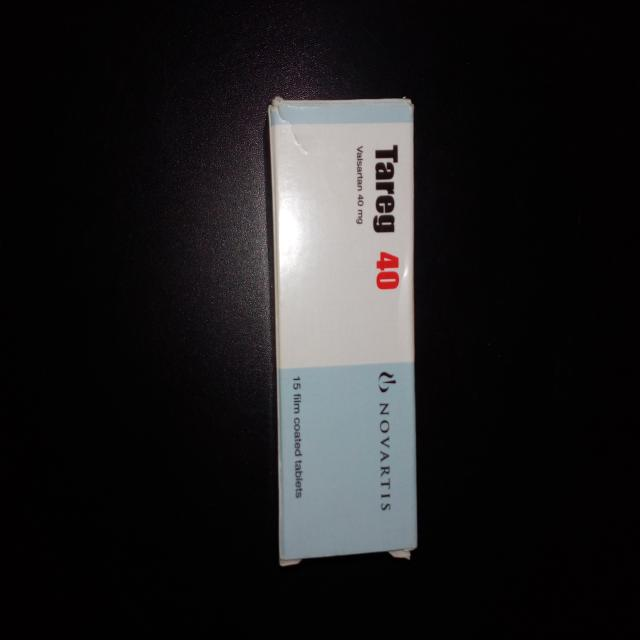Medicine: (264, 94, 421, 571)
